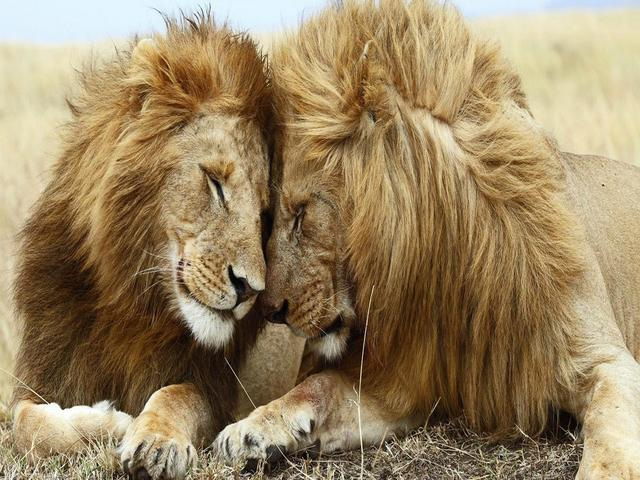lion: (246, 17, 606, 457), (22, 25, 281, 451)
